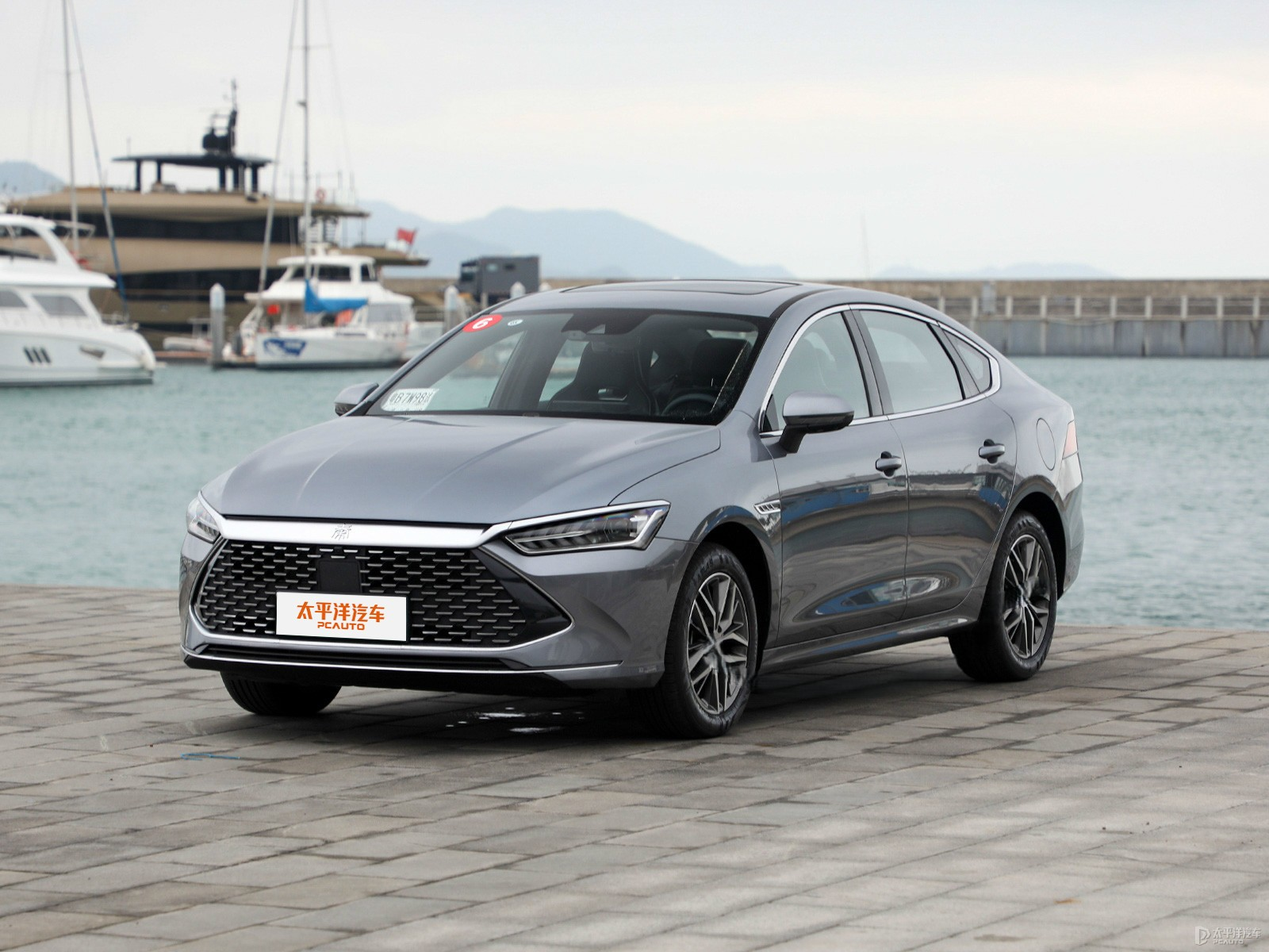BYD Qin: (332, 524, 351, 539)
